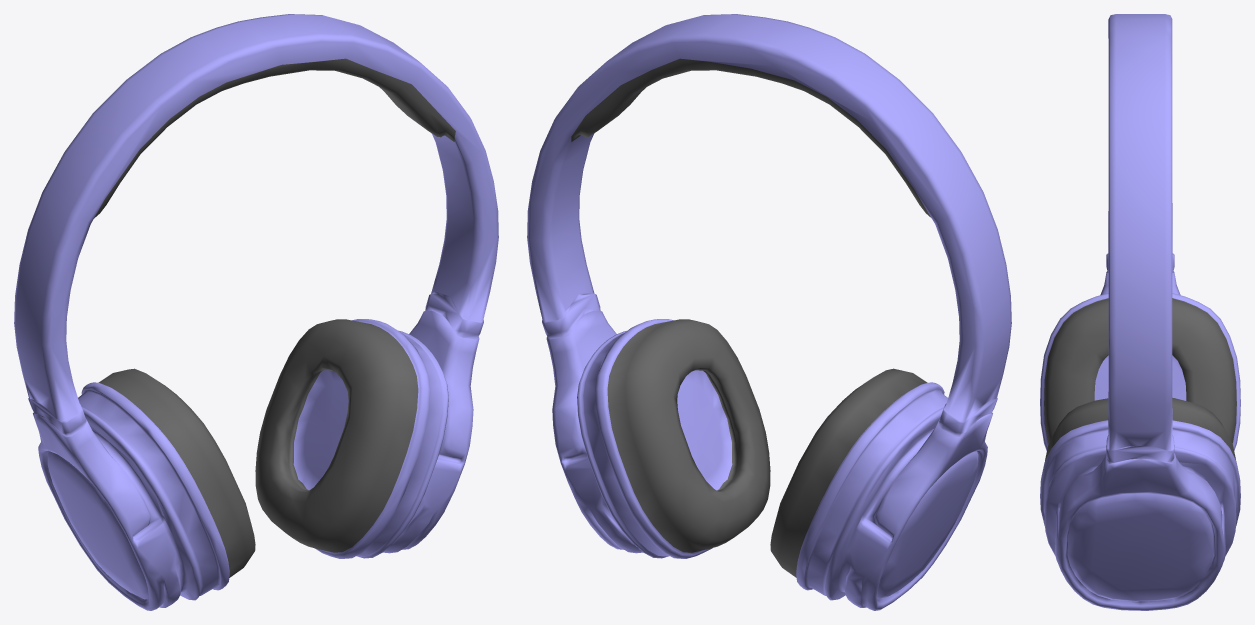
File: headphone.glb
3 renders of one model, left to right at view 1: azimuth 30°, elevation 25°; view 2: azimuth 150°, elevation 25°; view 3: azimuth 270°, elevation 25°, orthographic. The views are drawn at different scales.
Visible parts, largest first — view 1: pCylinder3; view 2: pCylinder3; view 3: pCylinder3.
Part boxes in pixels (box(x1,y1,x2,y2)): pCylinder3: box(14, 14, 498, 610); pCylinder3: box(527, 14, 1011, 610); pCylinder3: box(1040, 14, 1240, 610).
Size of the model in its own units: 0.3666 by 0.4147 by 0.1467.
